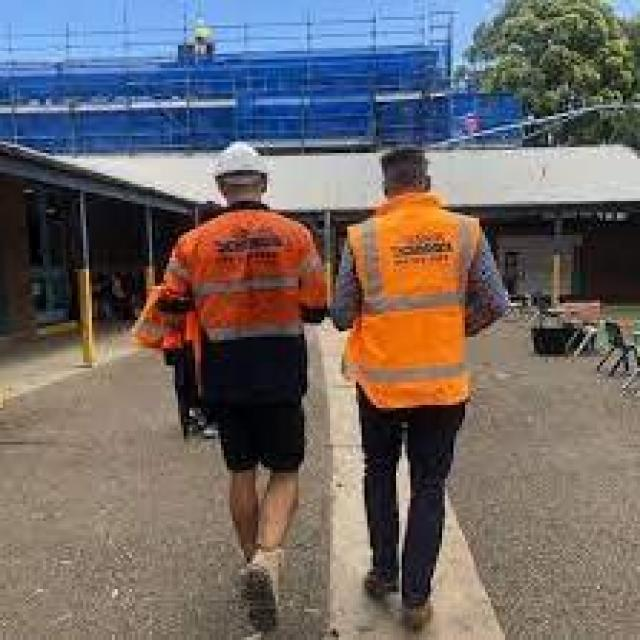Reflective-Jacket: (336, 196, 491, 419), (149, 204, 327, 374)
Safety-Helmet: (198, 133, 284, 187)
